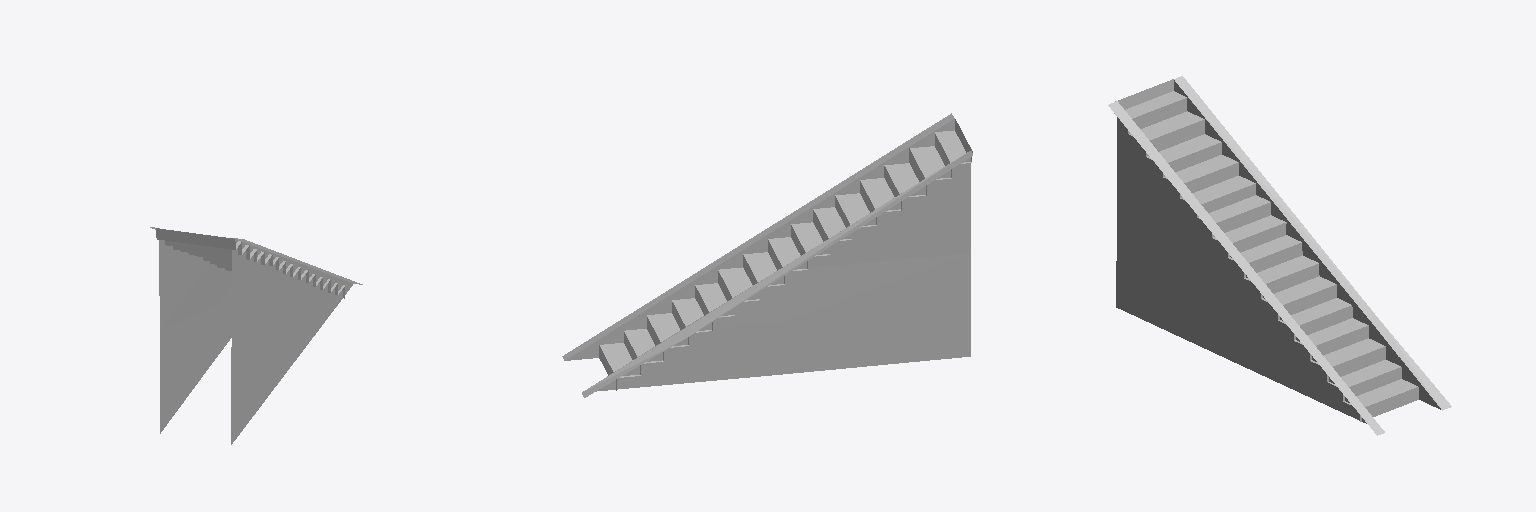
The model's file is tizi06.obj.
The picture shows the model from 3 angles: view 1: azimuth 30°, elevation 25°; view 2: azimuth 150°, elevation 25°; view 3: azimuth 270°, elevation 25°; orthographic projection.
Visible parts, largest first — view 1: tizi06; view 2: tizi06; view 3: tizi06.
Part boxes in pixels (left/top/right/bottom): tizi06: left=150, top=227, right=362, bottom=444; tizi06: left=562, top=113, right=972, bottom=397; tizi06: left=1108, top=76, right=1451, bottom=435.
Size of the model in its own units: 159 by 100 by 151.